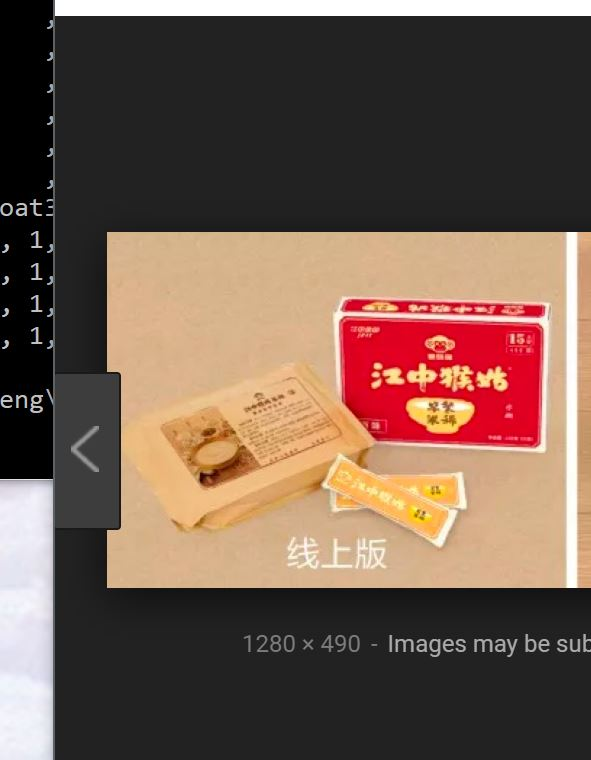box: (335, 295, 550, 452)
